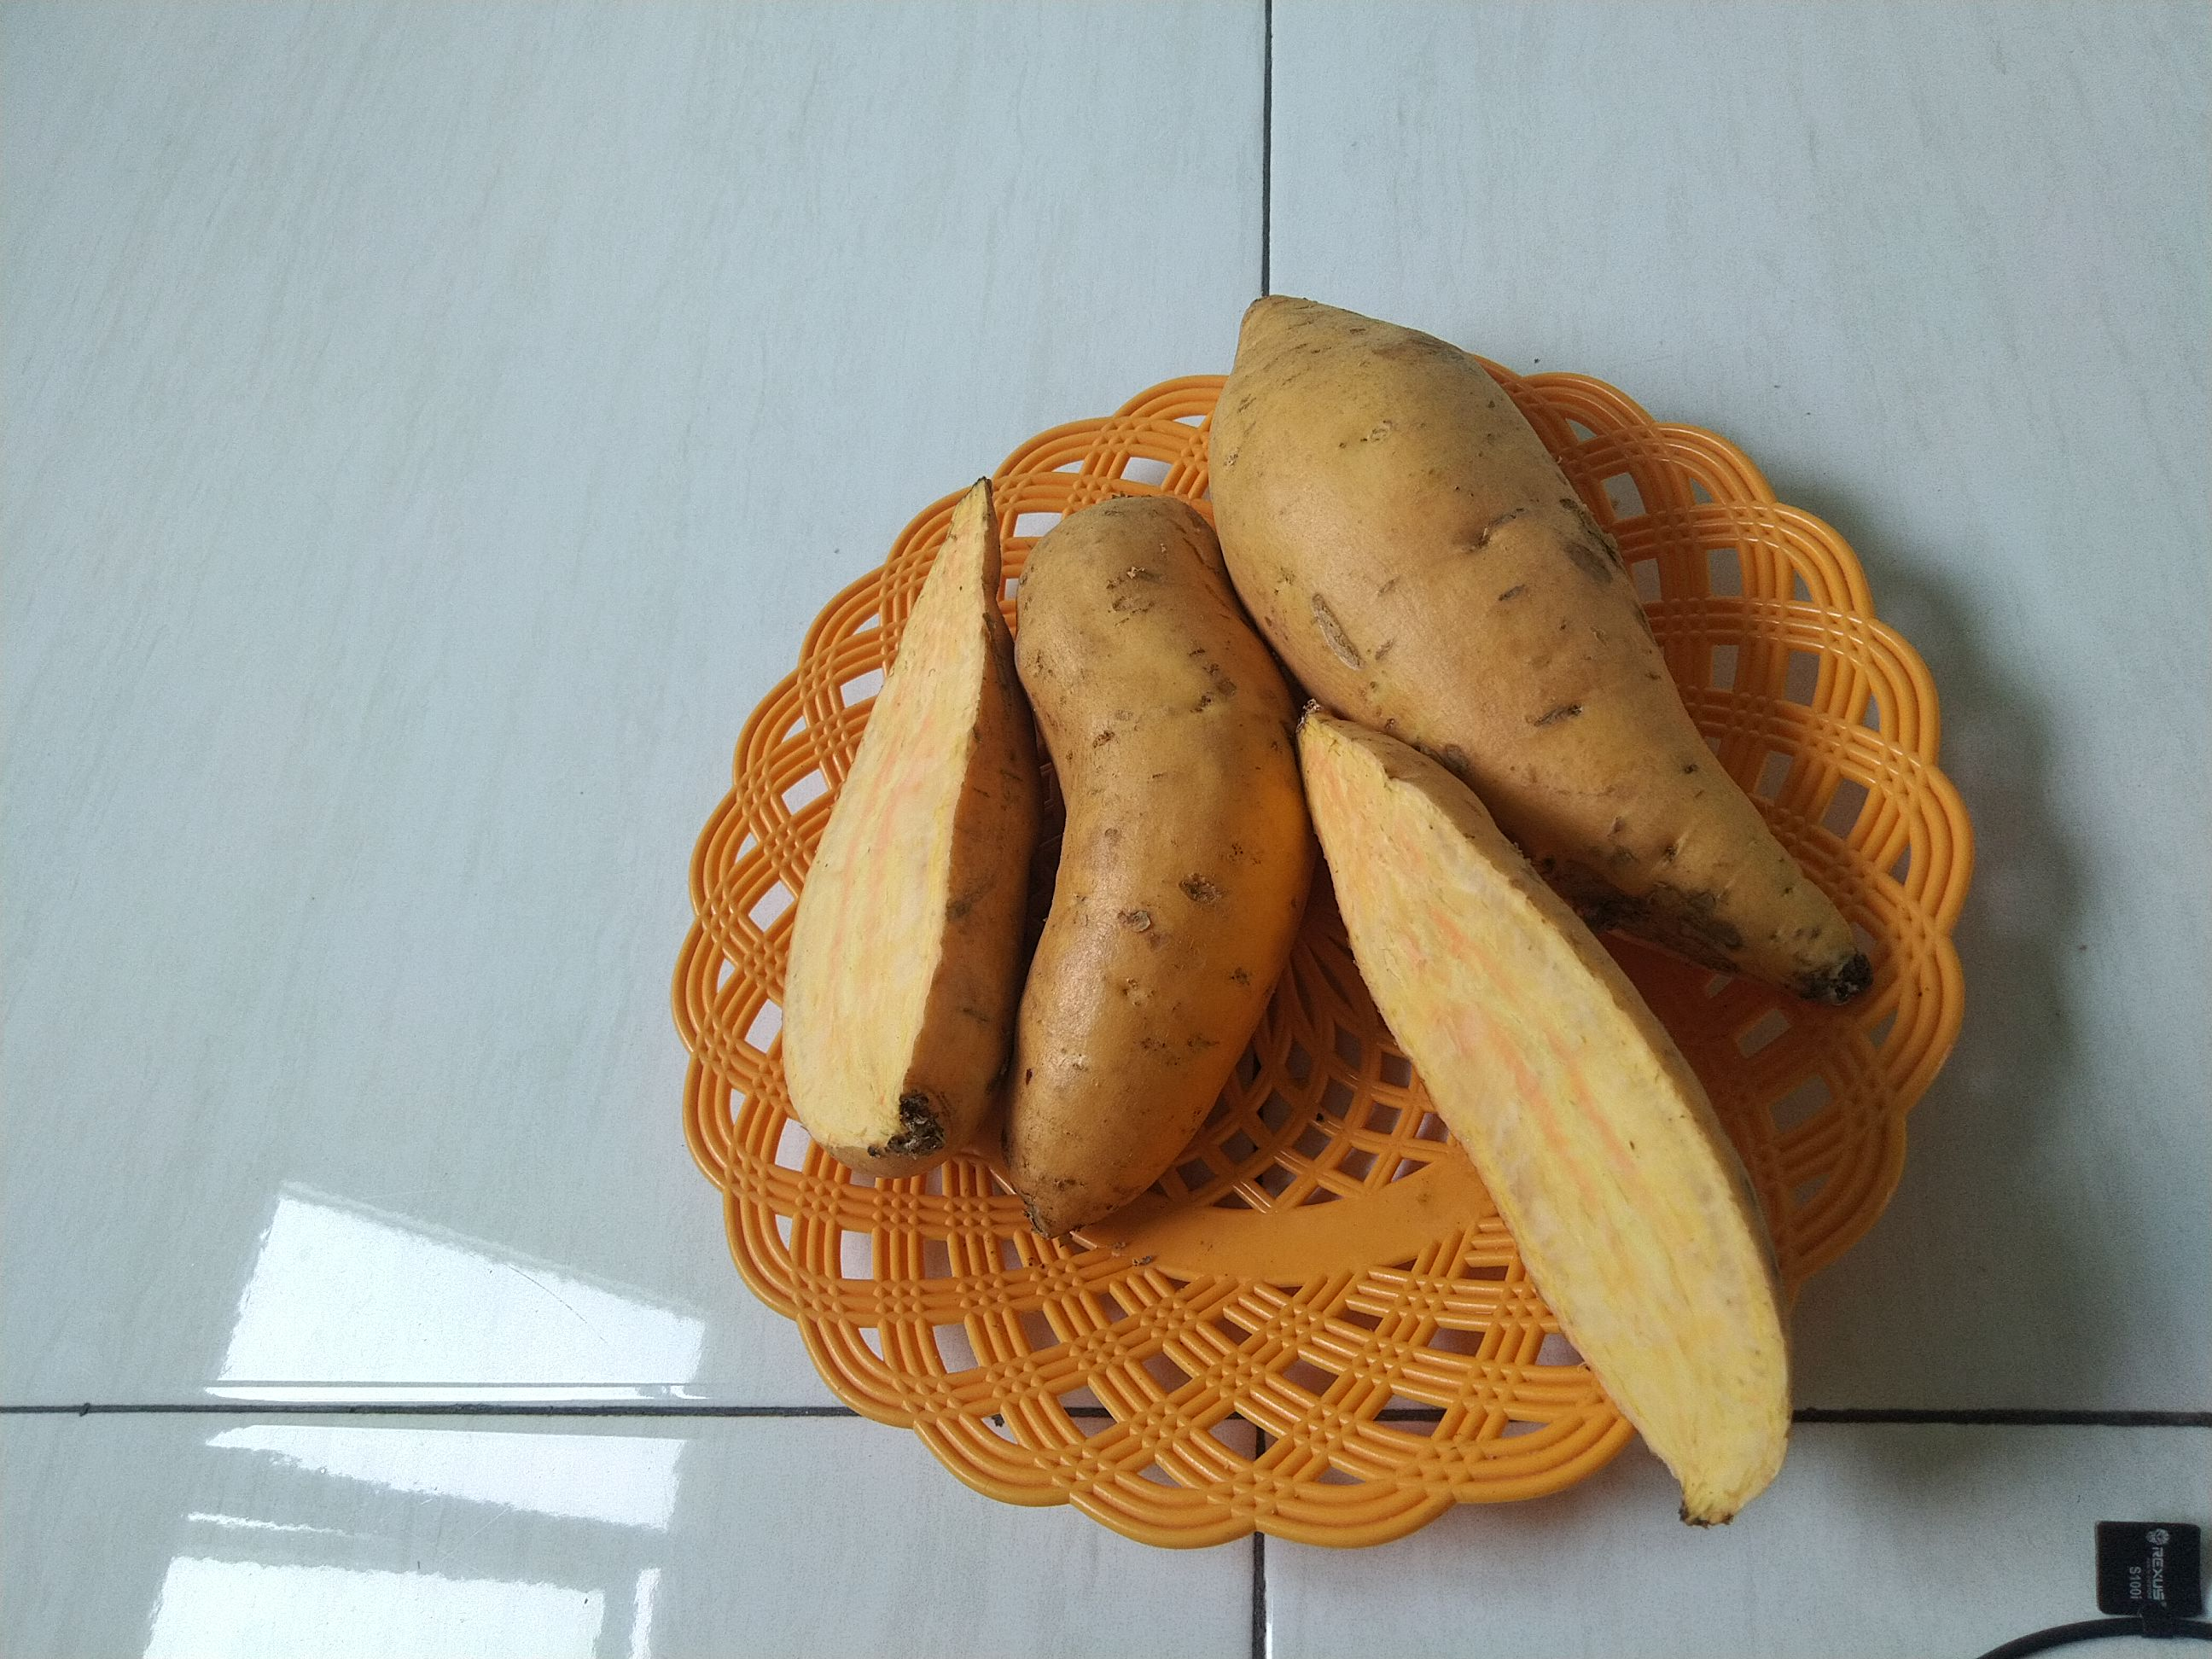ubi cilembu: (1204, 281, 1914, 1002), (1284, 697, 1838, 1565), (1001, 483, 1273, 1241), (775, 471, 1036, 1171)
